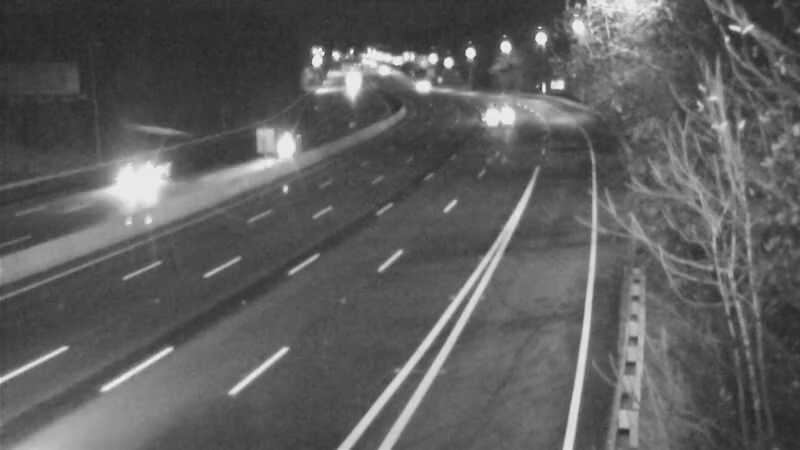vehicle: (99, 143, 179, 223), (392, 57, 442, 107), (471, 90, 521, 140), (265, 118, 315, 168)
